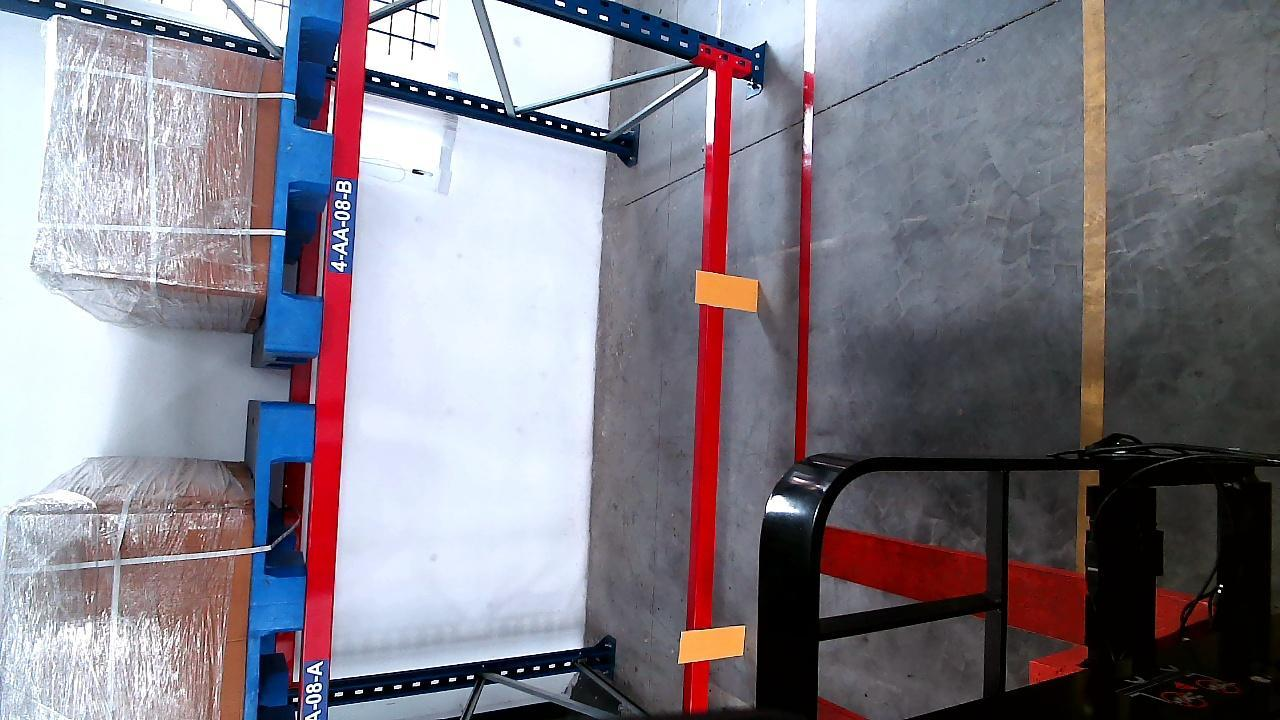red_line: (792, 0, 819, 460)
yellow_line: (1081, 0, 1109, 439)
